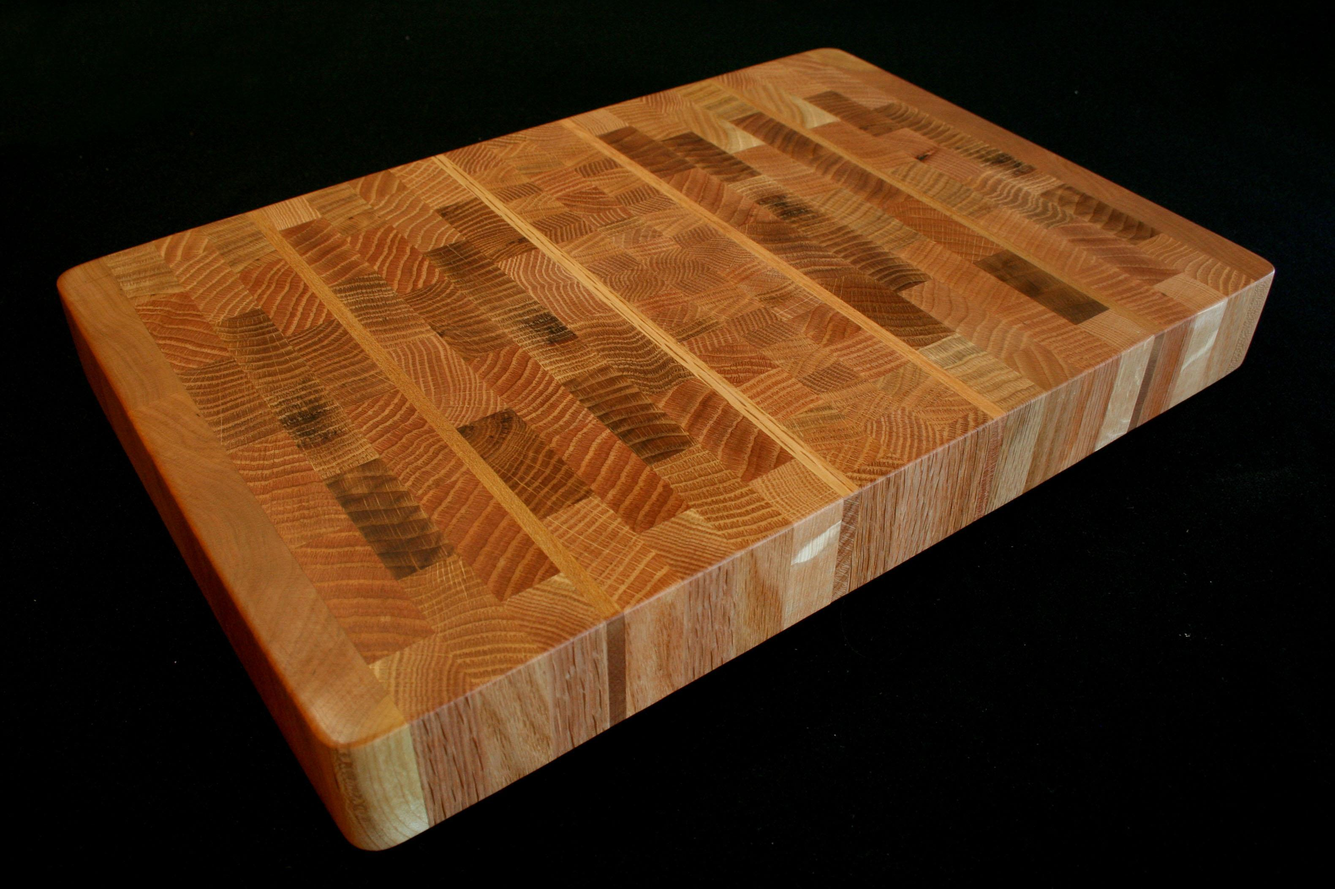gloved_hand: (43, 36, 1288, 856)
